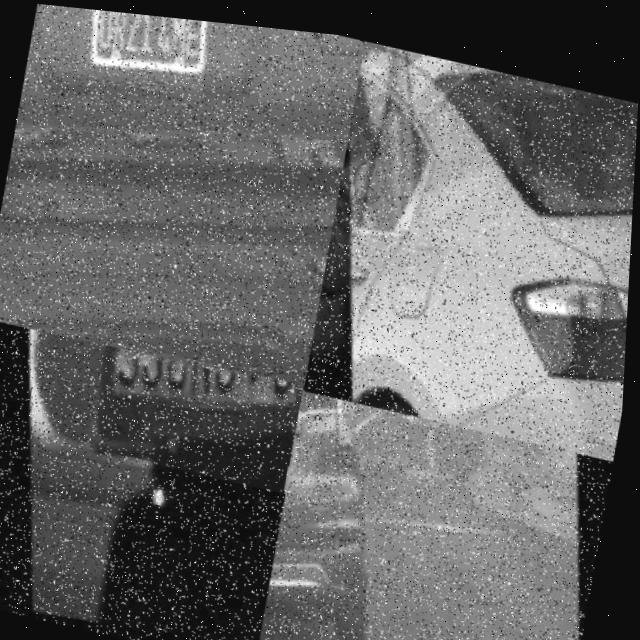LicensePlate: (102, 348, 305, 467), (73, 6, 215, 98), (290, 434, 324, 491), (413, 404, 423, 412)
